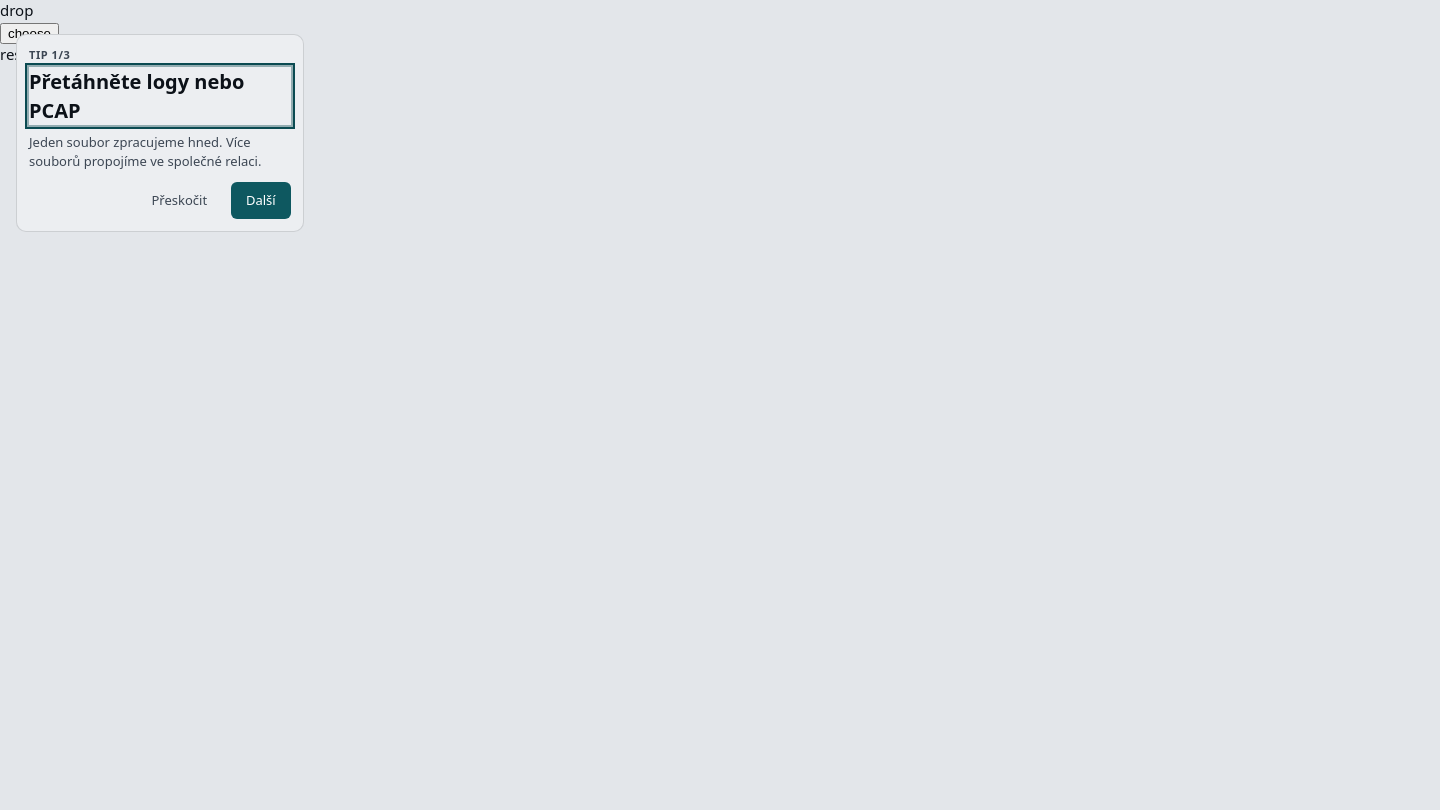
Sprint UX-3 first visit tour › shows anchored tour on empty screen and dismisses
This screenshot has width=1440, height=810.
Expected: the dialog with test id "first-visit-tour" is shown, [16, 34, 304, 232]
Expected: the heading "Přetáhněte logy nebo PCAP" is shown, [29, 67, 291, 125]
Click the button with test id "first-visit-tour-next". click: (261,201)
box: [230, 182, 291, 219]
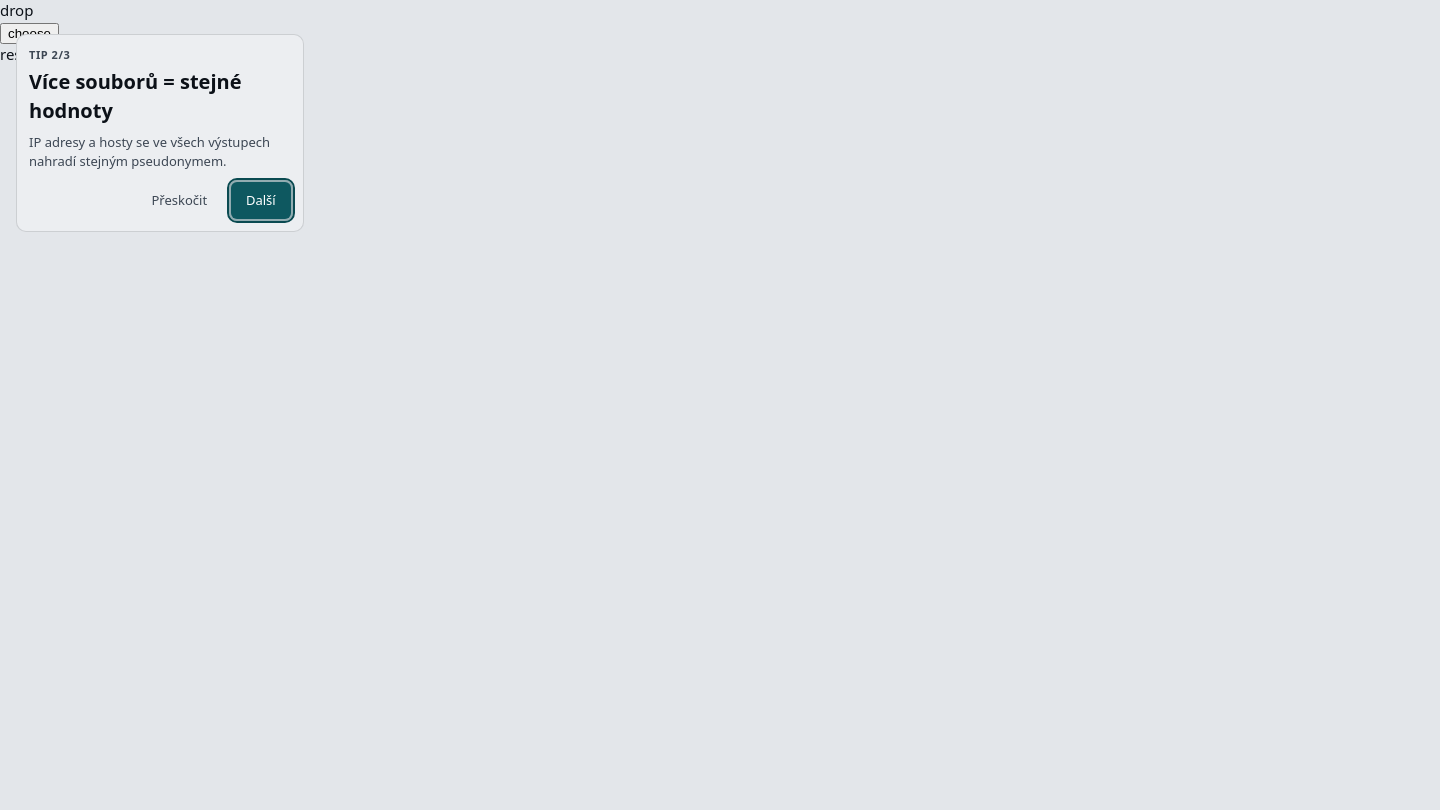
Result: the heading "Více souborů = stejné hodnoty" is shown at [29, 68, 242, 124]
Click the button with test id "first-visit-tour-next". click: (261,201)
box: [230, 182, 291, 219]
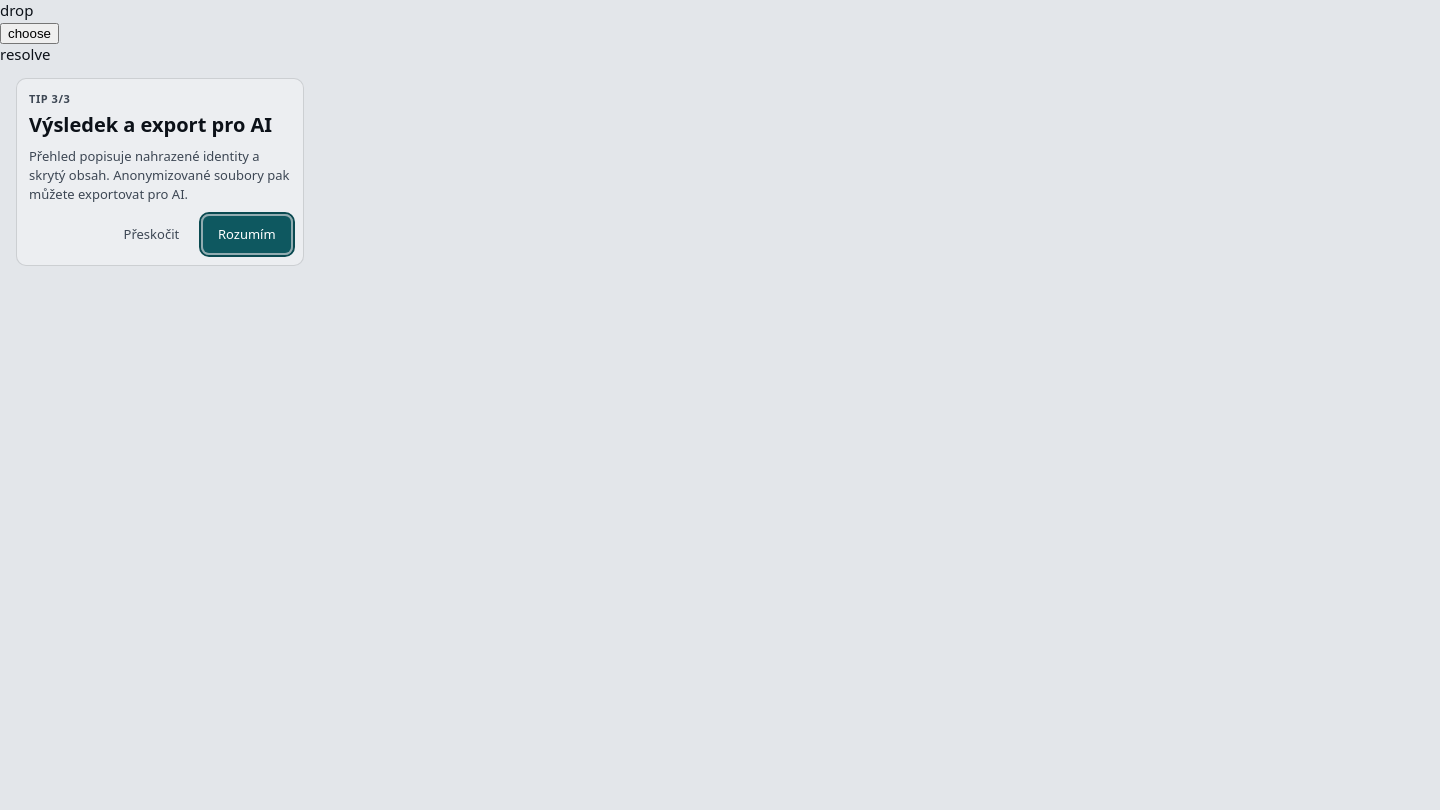
Result: the heading "Výsledek a export pro AI" is shown at [29, 110, 291, 139]
Click the button with test id "first-visit-tour-next". click: (247,234)
box: [203, 216, 291, 253]
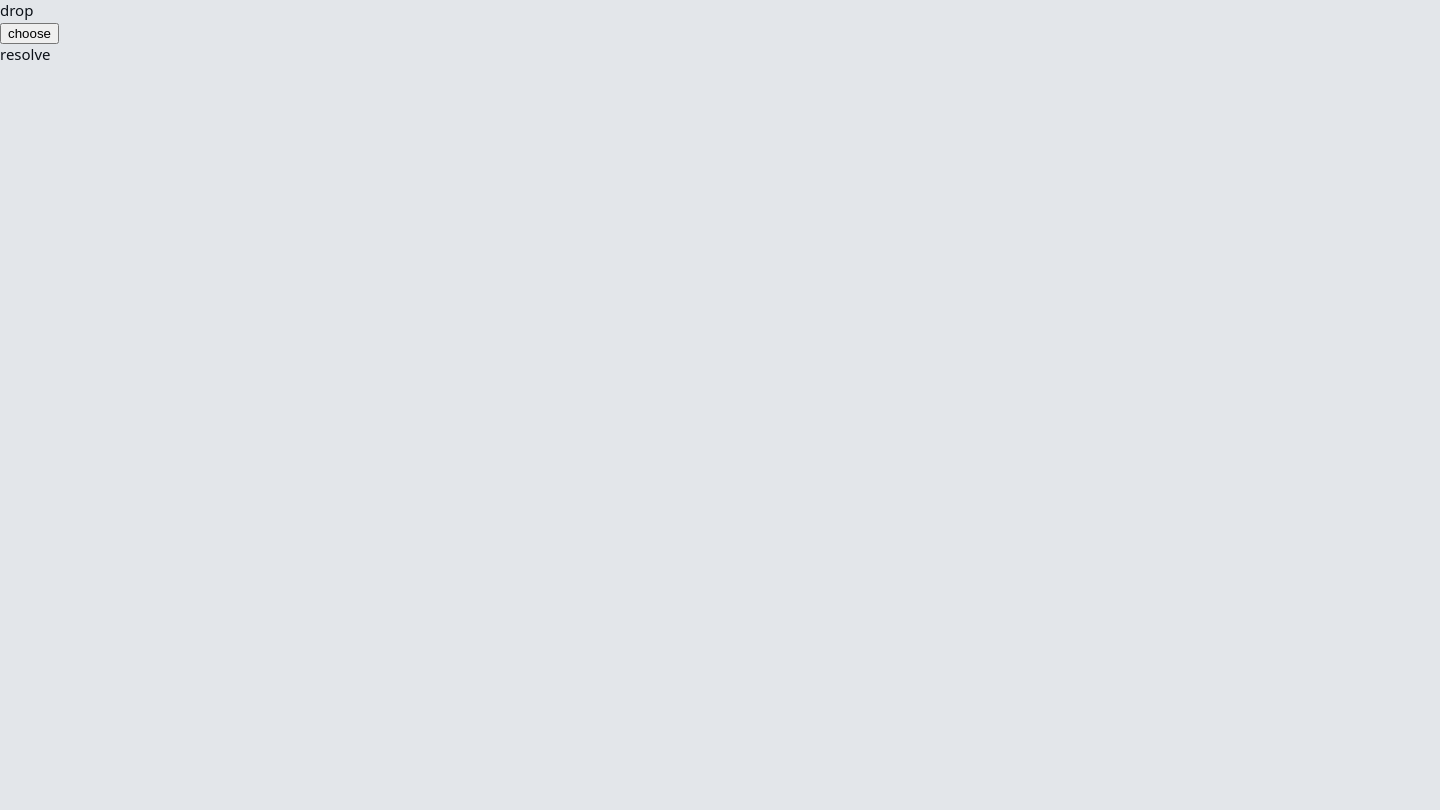
Result: the dialog with test id "first-visit-tour" is gone
